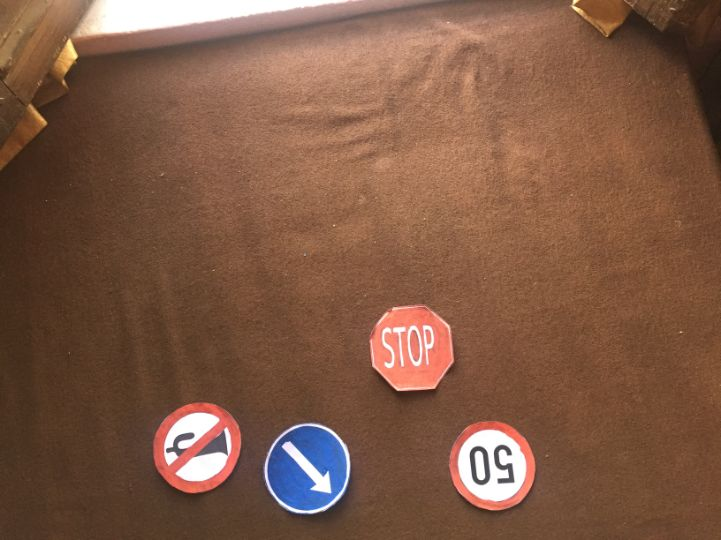go-stright: (264, 422, 352, 516)
no-horn: (152, 402, 241, 493)
speed-50: (449, 422, 533, 511)
stop: (365, 303, 455, 391)
